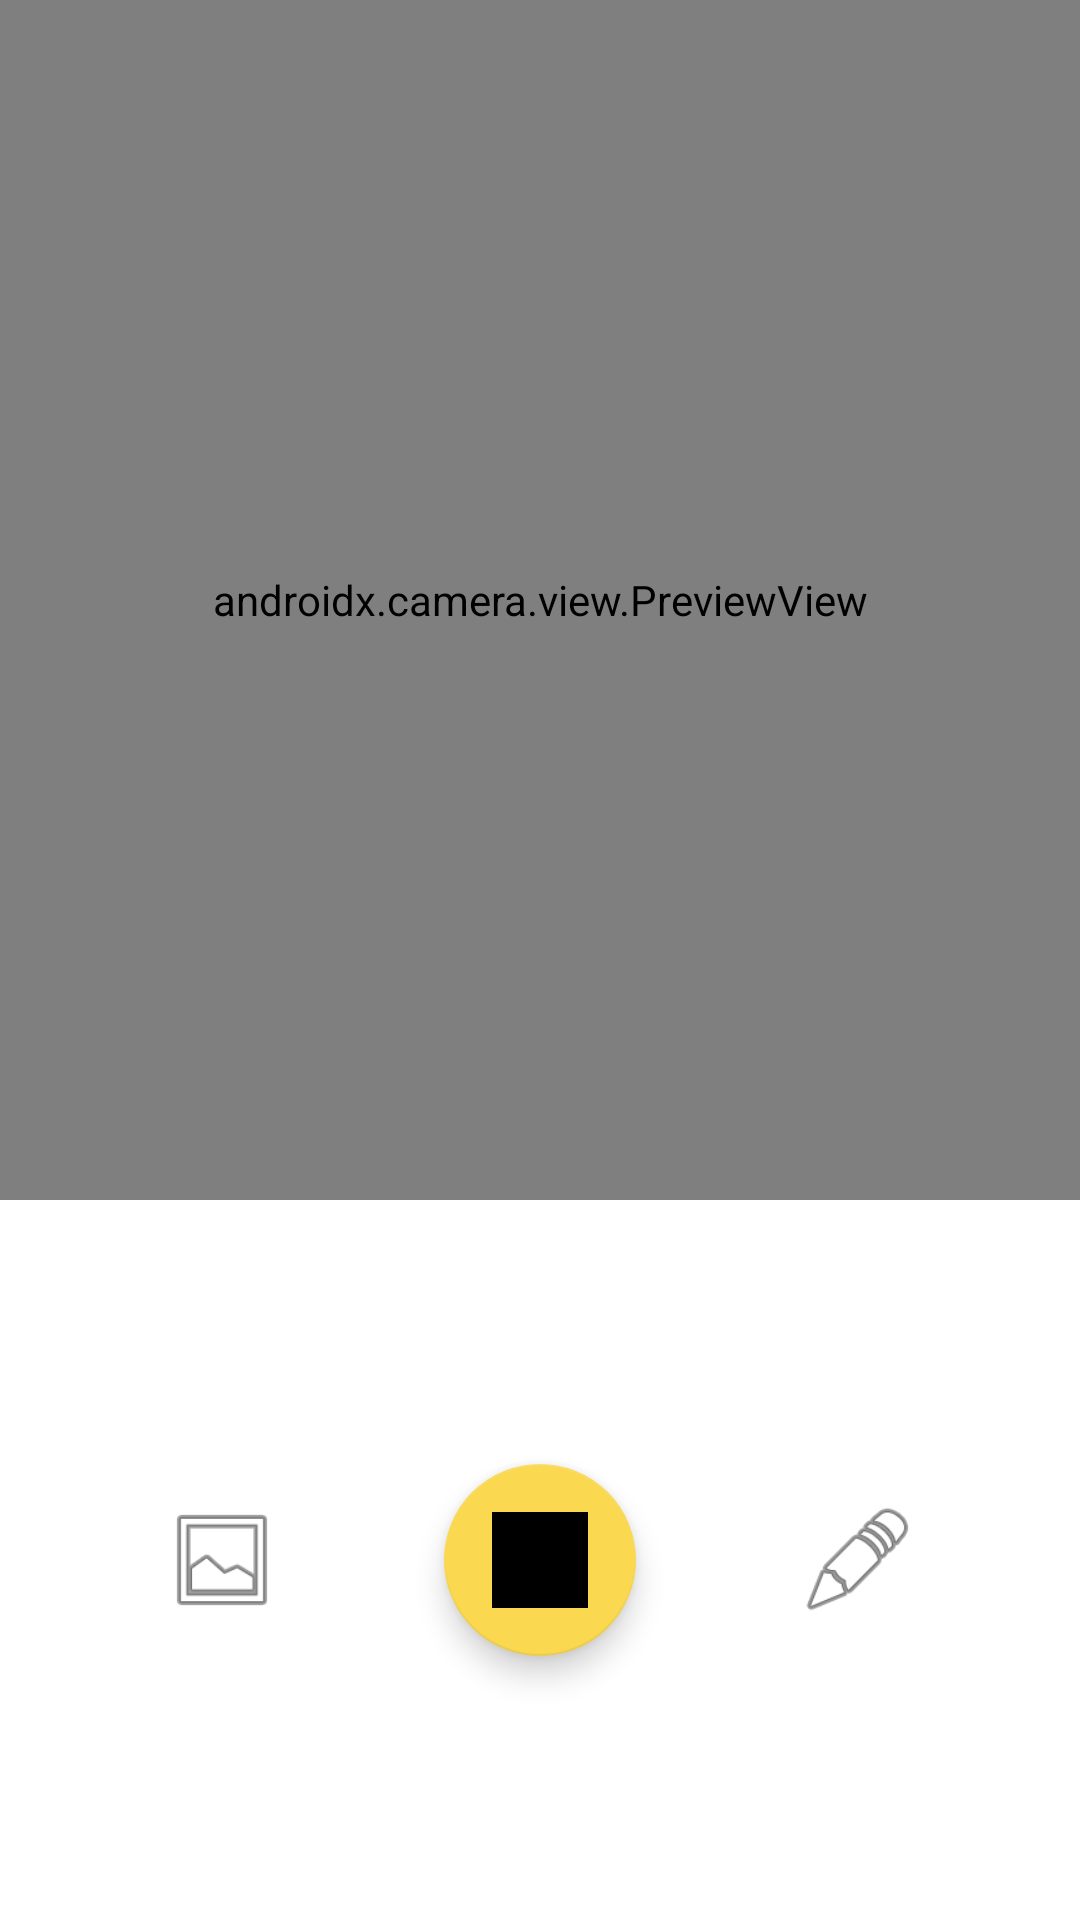

Named icons in this screenshot (1080*1920) and their centers, point (x, y):
edit: point (857, 1559)
gallery: point (222, 1560)
